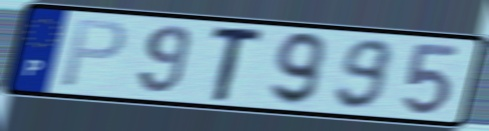5: (397, 41, 467, 117)
9: (266, 31, 330, 109), (332, 37, 397, 112), (134, 23, 194, 97)
P: (57, 17, 130, 90)
T: (208, 26, 269, 104)
